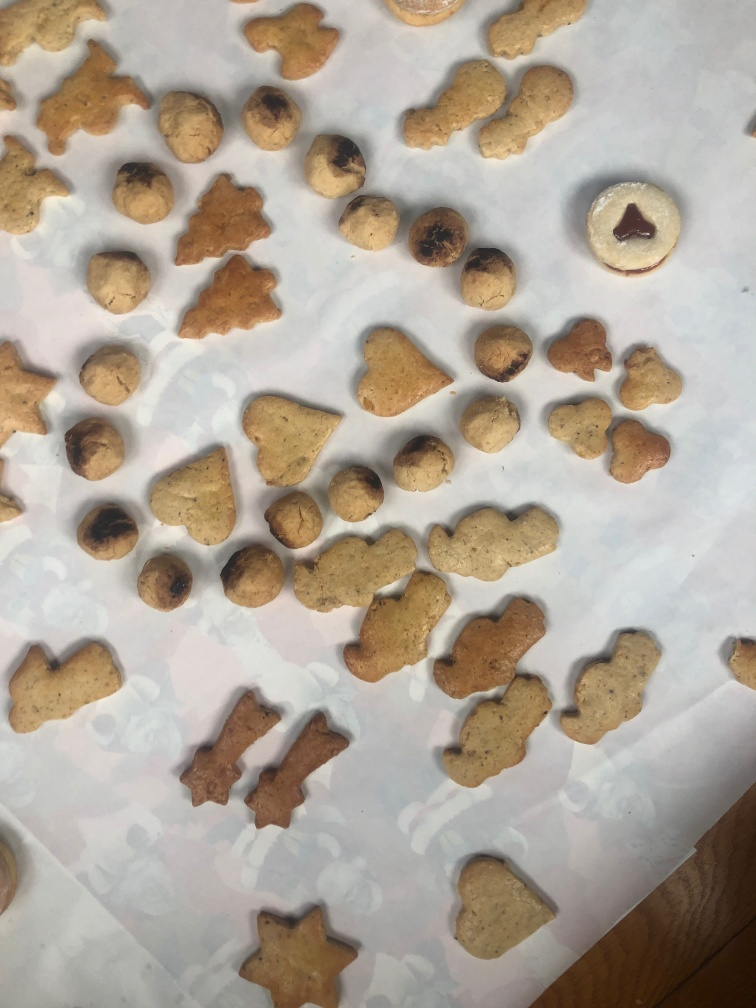angel: (2, 634, 130, 734)
christmas shortbread with jam: (580, 172, 692, 276)
christmas tree: (173, 251, 292, 344), (170, 168, 276, 268)
flake: (535, 388, 616, 462), (540, 307, 614, 385), (612, 340, 686, 415), (607, 411, 675, 488)
lamb: (238, 1, 349, 80)
santa claus: (427, 665, 554, 790), (31, 32, 151, 157), (552, 623, 666, 752), (430, 590, 554, 705), (340, 567, 457, 683), (282, 521, 422, 614), (424, 500, 565, 584), (1, 124, 77, 245), (1, 1, 113, 66)
shooting star: (171, 682, 286, 805), (244, 702, 354, 830)
snowball: (389, 51, 507, 151), (471, 60, 582, 166), (477, 1, 603, 61), (149, 85, 225, 162), (107, 149, 177, 227), (216, 538, 289, 612), (399, 198, 470, 271), (454, 390, 527, 457), (81, 247, 155, 313), (457, 241, 521, 317), (77, 339, 148, 407), (65, 410, 131, 482), (241, 82, 304, 156), (471, 317, 537, 387), (74, 496, 141, 563), (304, 128, 366, 199), (387, 429, 453, 495), (336, 188, 403, 253), (258, 484, 326, 546), (133, 550, 201, 611), (321, 460, 383, 526)
star: (238, 896, 365, 1005), (343, 318, 465, 416), (235, 383, 347, 486), (453, 850, 560, 957), (141, 439, 246, 543), (1, 332, 60, 452)
